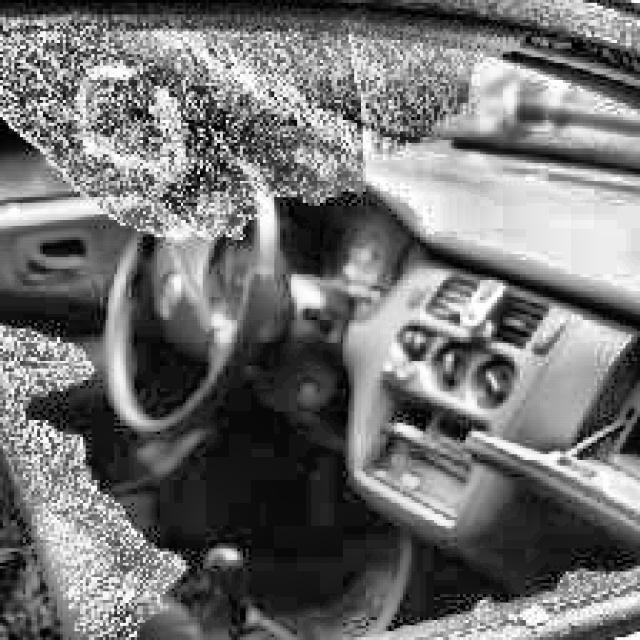glass_shatter: (2, 45, 639, 640)
